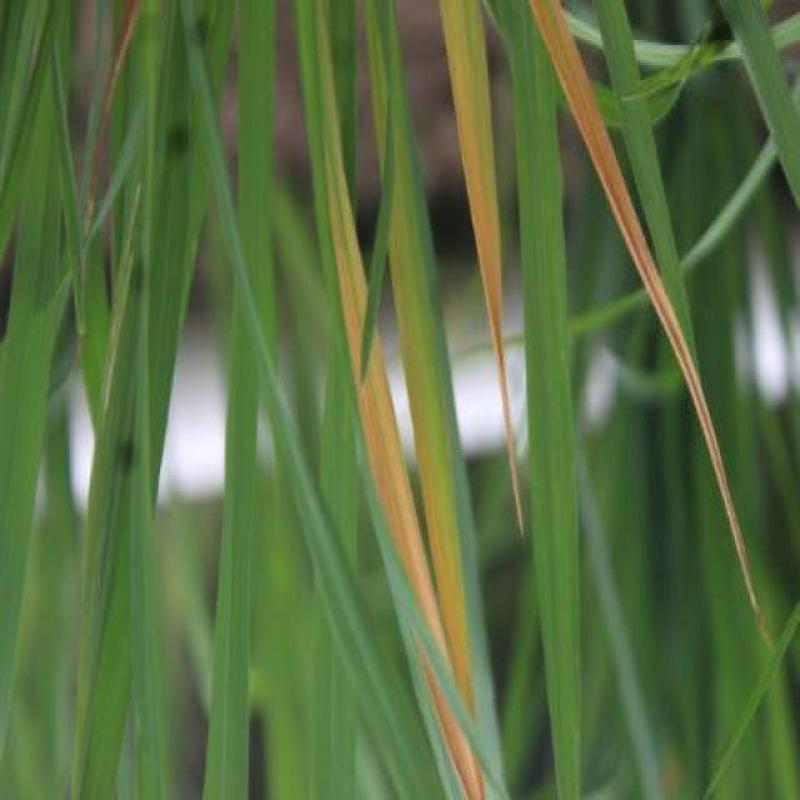Rice Tungro: (434, 100, 520, 470), (330, 288, 420, 578), (568, 105, 658, 344), (672, 355, 752, 605)
